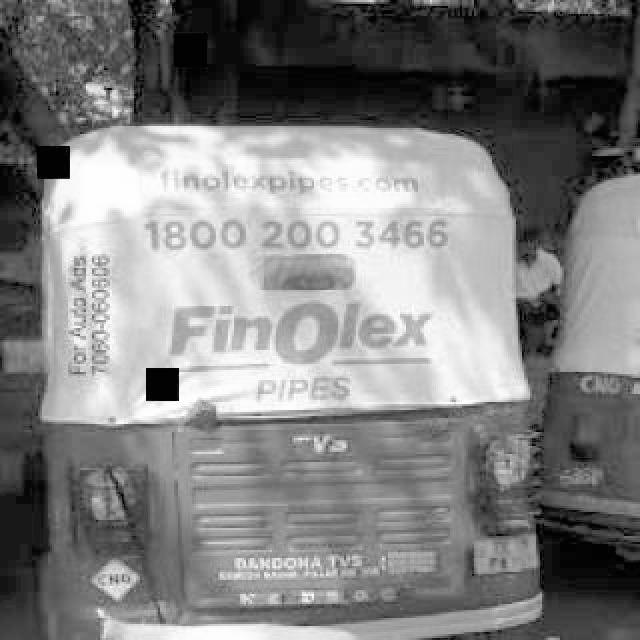Auto-Rickshaw: (24, 128, 556, 638), (556, 160, 640, 538)
